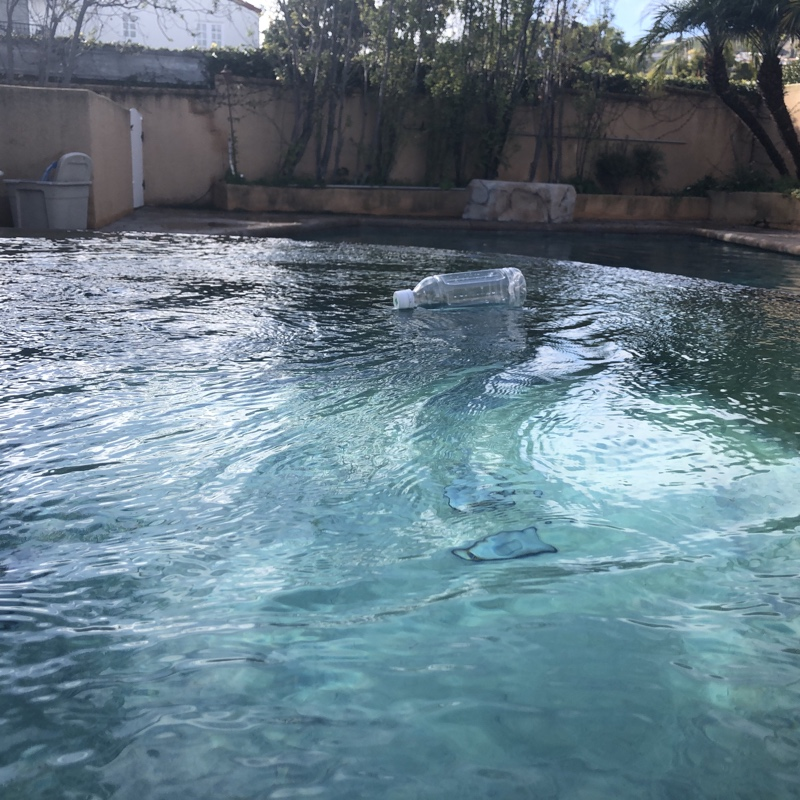Plastic Bottle: (390, 263, 529, 314)
